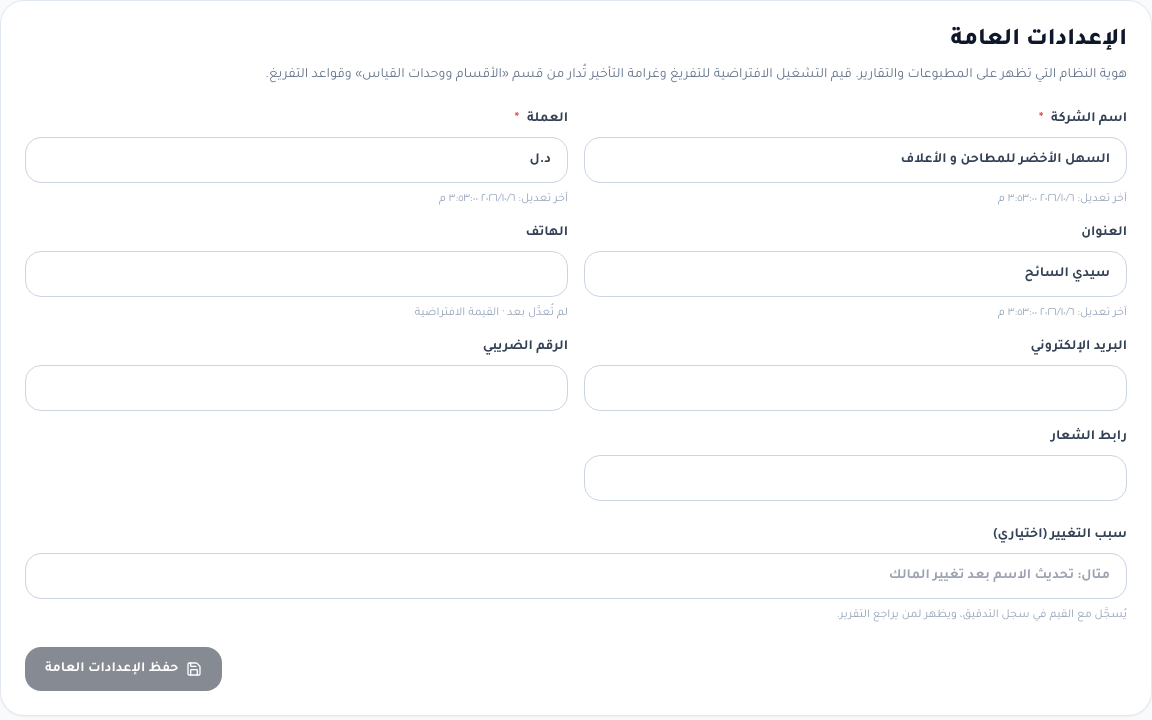
it: GeneralSettings › shows a validation message under the field, not only as a toast
This screenshot has width=1152, height=720.
Expected: the field showing "د.ل" is shown, [25, 137, 568, 183]
Blank the company name, then try to save.
Clear the field showing "السهل الأخضر للمطاحن و الأعلاف" at (856, 160), box [584, 137, 1127, 183]
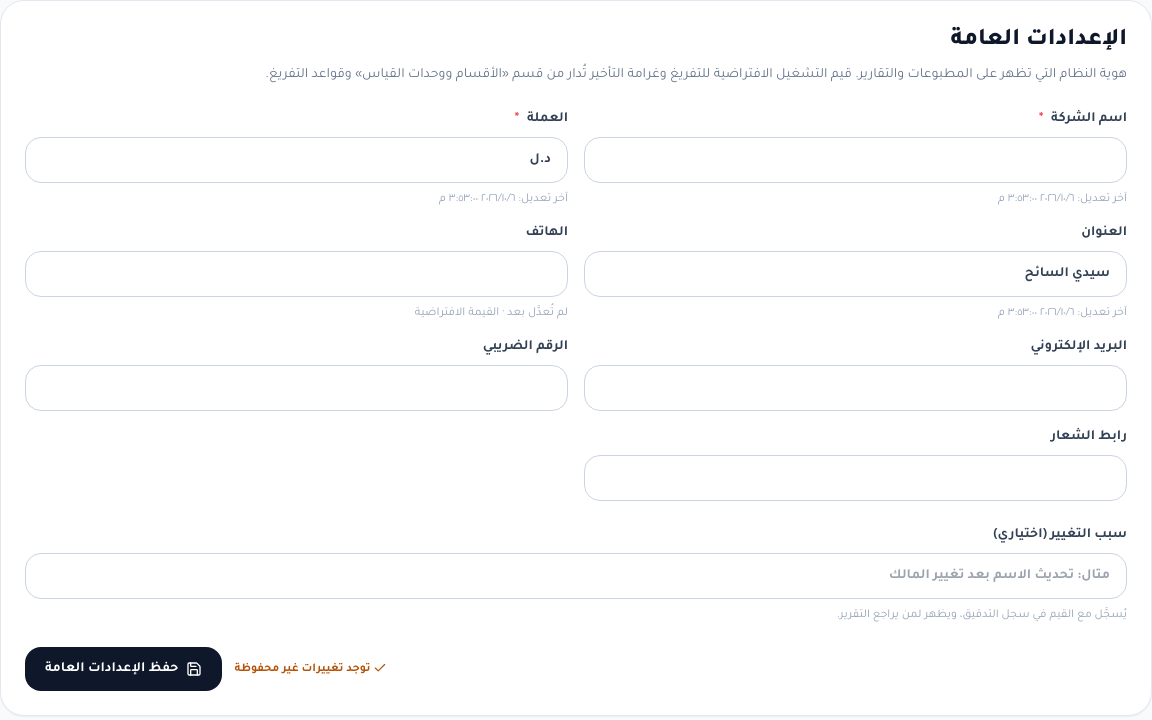
Expected: the button "حفظ الإعدادات العامة" is enabled
Click the button "حفظ الإعدادات العامة" at (124, 669), box [25, 647, 222, 691]
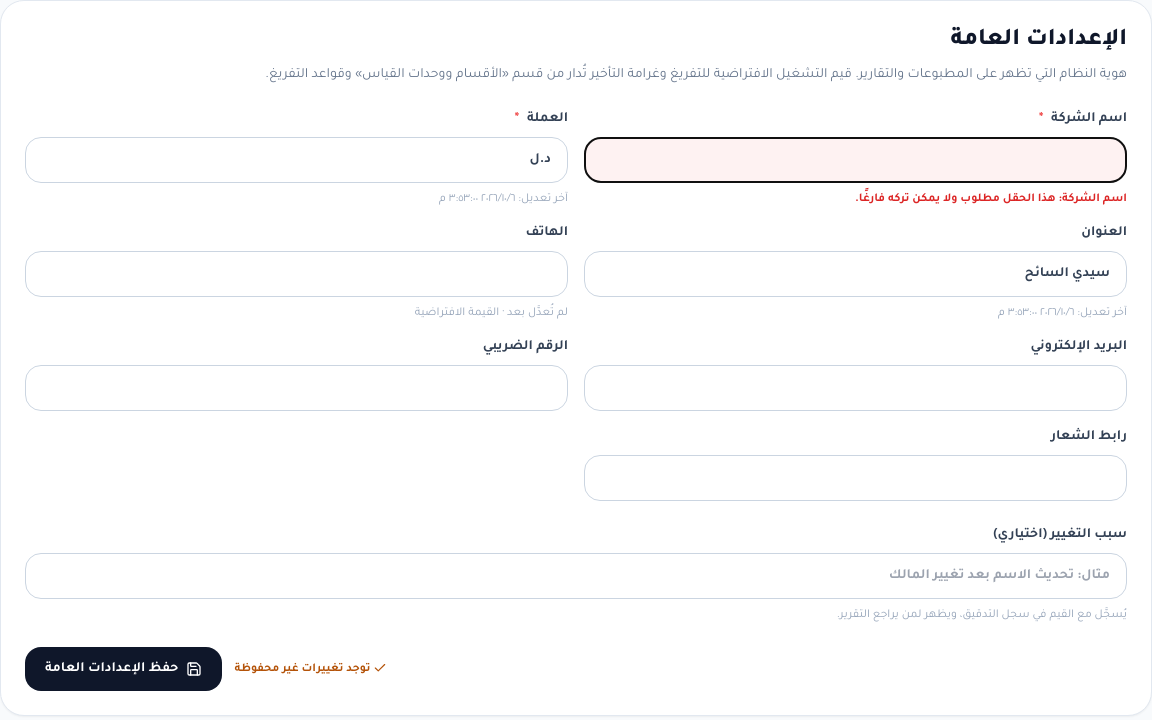
Expected: the text "اسم الشركة: هذا الحقل مطلوب ولا يمكن تركه فارغًا." is shown, [855, 193, 1127, 205]
